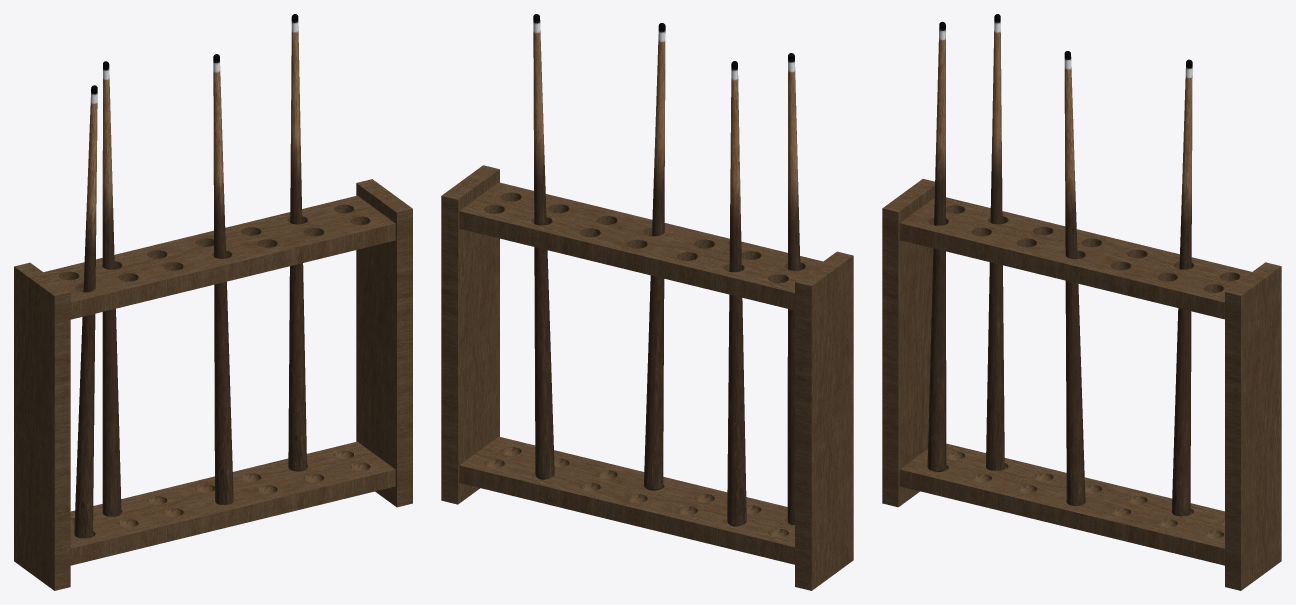
The model's file is cue.glb.
The picture shows the model from 3 angles, left to right: view 1: azimuth 30°, elevation 25°; view 2: azimuth 150°, elevation 25°; view 3: azimuth 330°, elevation 25°; orthographic projection. The views are drawn at different scales.
Visible parts, largest first — view 1: left, top, bottom, right, cue.015, cue, cue.017, cue.018; view 2: left, top, bottom, right, cue.018, cue.017, cue, cue.015; view 3: right, top, bottom, left, cue, cue.015, cue.017, cue.018.
Part boxes in pixels (x1,y1,x2,y2): left: (14, 262, 70, 590); top: (43, 195, 395, 319); bottom: (70, 441, 395, 565); right: (356, 179, 412, 507); cue.015: (74, 85, 97, 538); cue: (213, 54, 233, 504); cue.017: (102, 61, 121, 516); cue.018: (288, 14, 306, 471); left: (795, 251, 853, 590); top: (459, 182, 822, 310); bottom: (459, 436, 794, 564); right: (441, 165, 499, 504); cue.018: (533, 14, 554, 479); cue.017: (727, 61, 746, 526); cue: (644, 23, 665, 490); cue.015: (787, 53, 800, 524); right: (1225, 262, 1281, 590); top: (899, 197, 1251, 319); bottom: (899, 443, 1224, 565); left: (882, 179, 934, 507); cue: (1064, 51, 1085, 505); cue.015: (927, 21, 946, 471); cue.017: (986, 14, 1004, 470); cue.018: (1171, 59, 1192, 516).
Size of the model in its own units: 7.46 by 9.66 by 1.46.
Materials: 2 (2 with a texture image).
